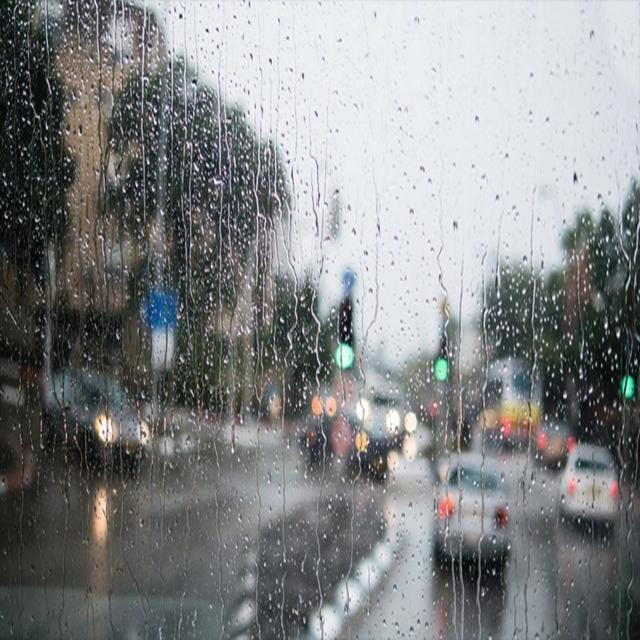car: (433, 455, 513, 568), (62, 375, 154, 473), (559, 443, 625, 534), (531, 416, 576, 471)
truck: (480, 366, 540, 450)
